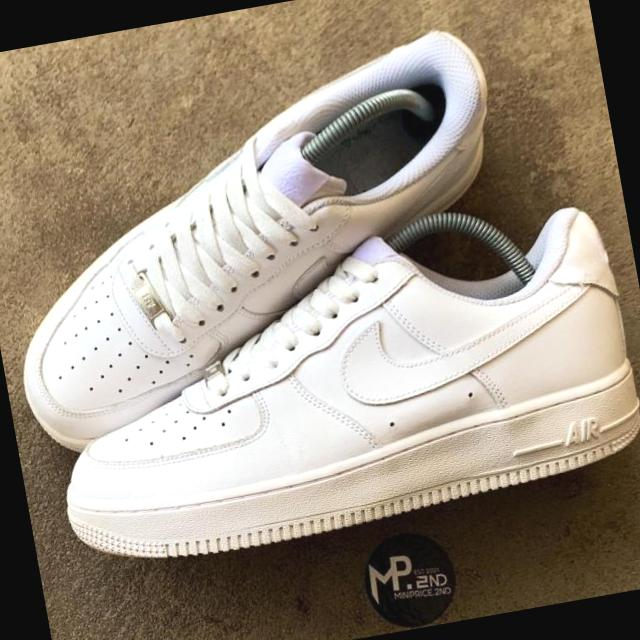nike_original_airforce: (18, 181, 640, 584), (0, 29, 535, 448)
